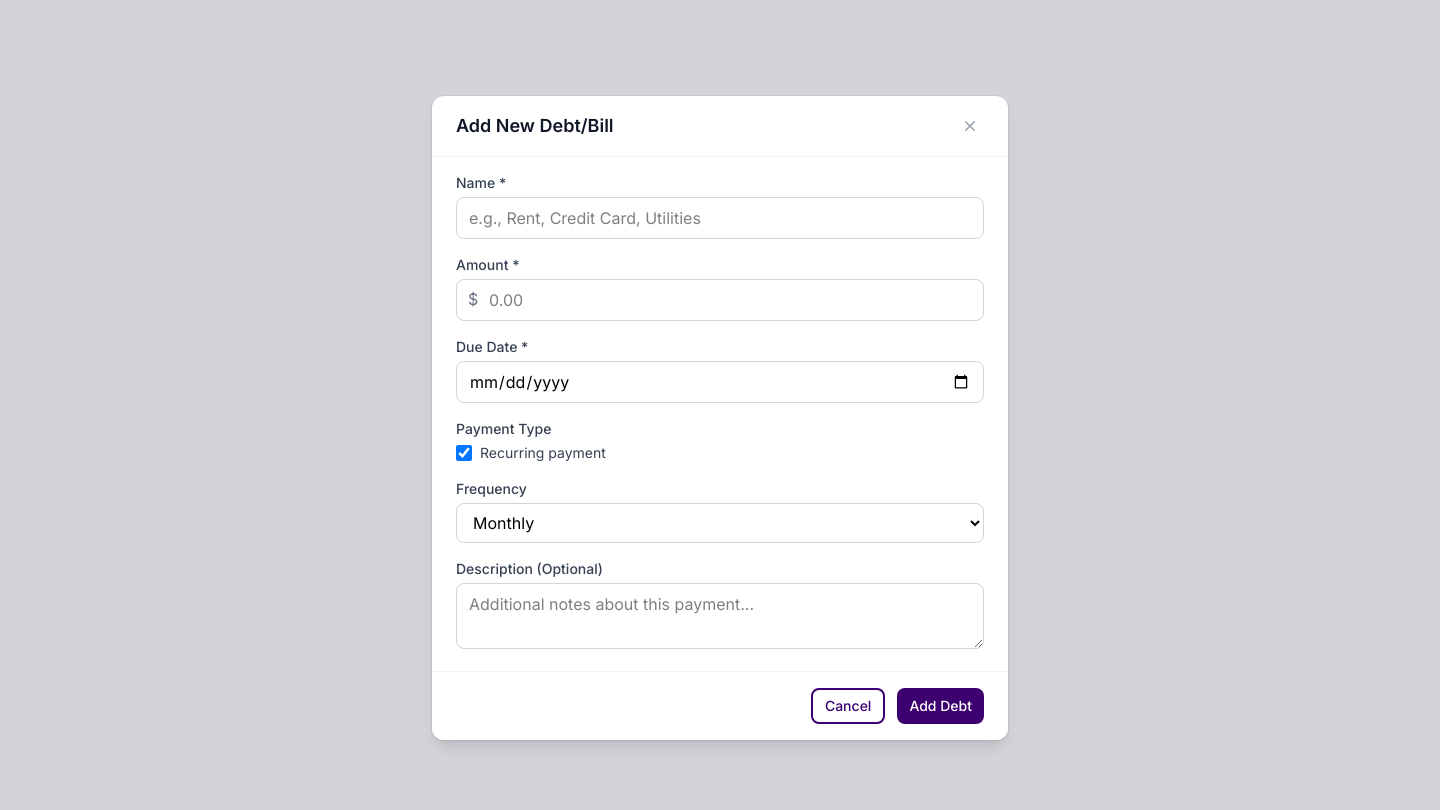
it: AddDebtModal › shows frequency field when recurring is checked
This screenshot has width=1440, height=810.
Check: the dropdown labelled "Frequency" is shown, box [456,503,984,543]
// Uncheck recurring
Click the checkbox labelled "Recurring payment". click: (464, 453)
box: [456,445,472,461]
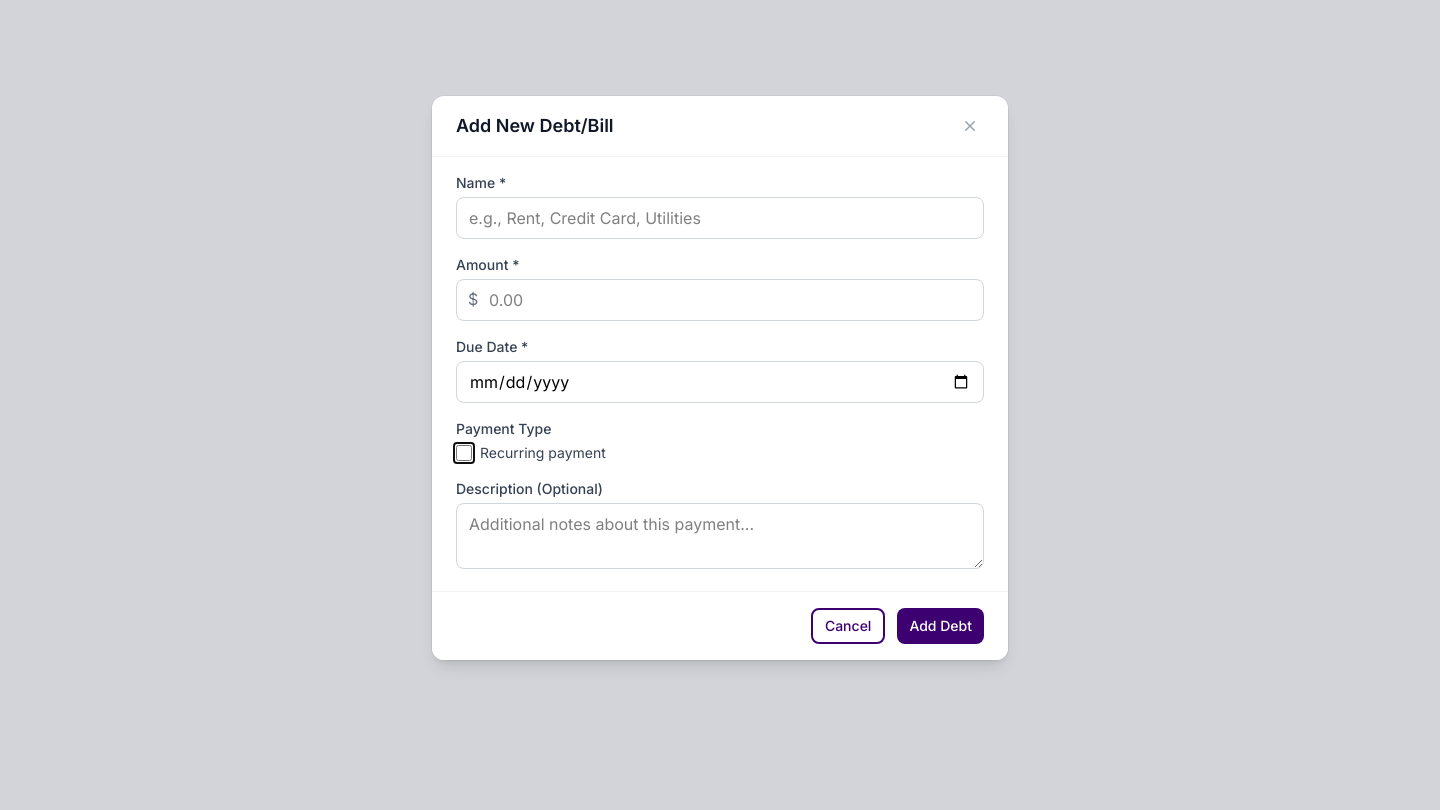
Check: the label labelled "Frequency" is gone
